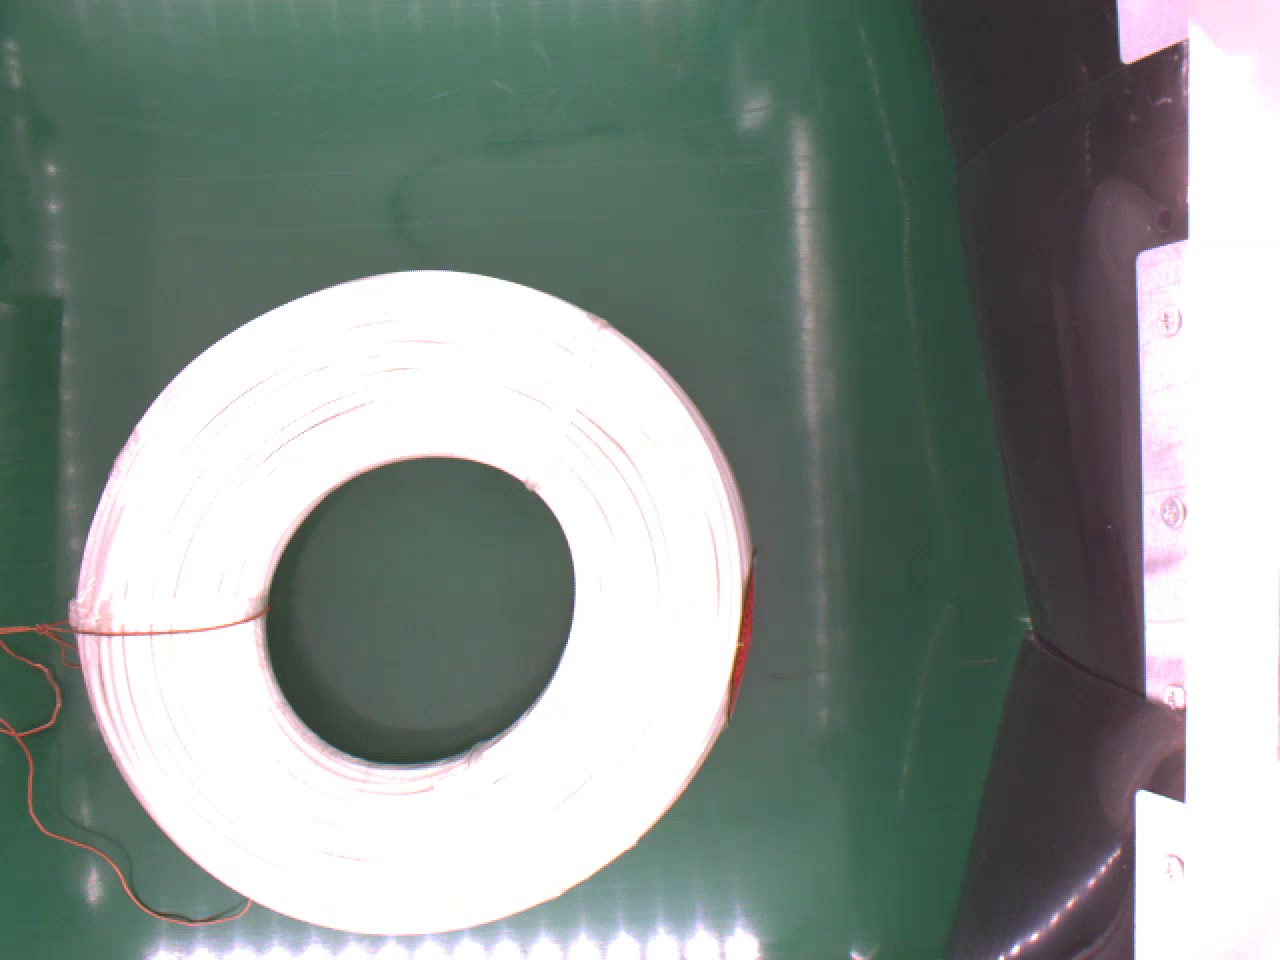white: (70, 261, 757, 937)
